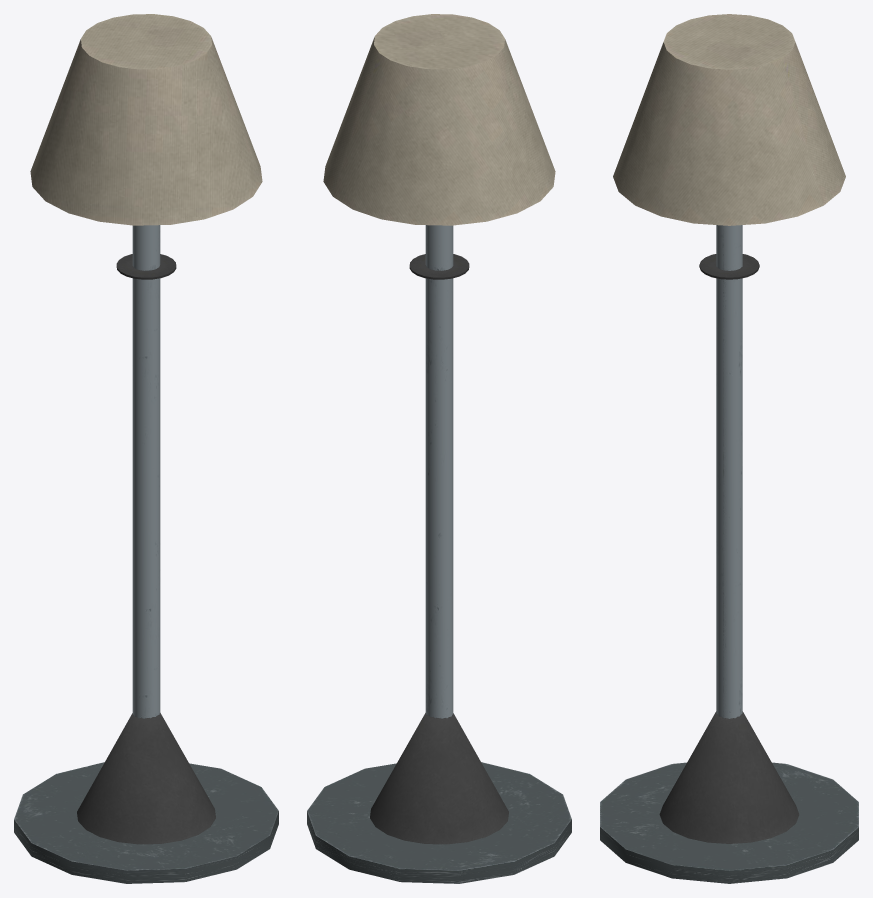
The picture shows the model from 3 angles, left to right: view 1: azimuth 30°, elevation 25°; view 2: azimuth 150°, elevation 25°; view 3: azimuth 270°, elevation 25°; orthographic projection.
Visible parts, largest first — view 1: g; view 2: g; view 3: g.
Boxes of the visible parts, left/top/right/bottom form: g: left=14, top=14, right=278, bottom=883; g: left=307, top=14, right=571, bottom=883; g: left=600, top=14, right=858, bottom=883.
Size of the model in its own units: 0.6119 by 2 by 0.5966.
Materials: 1 (1 with a texture image).
